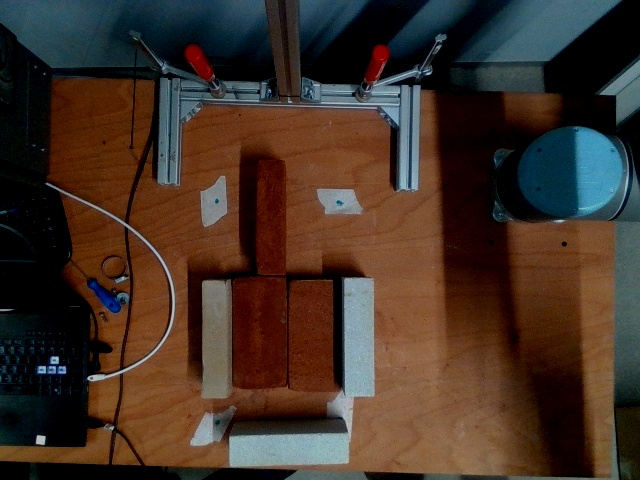brick: (288, 281, 340, 389), (233, 280, 283, 387)
brick-side: (230, 434, 346, 465), (345, 278, 373, 396), (257, 159, 283, 274), (201, 281, 223, 396)
